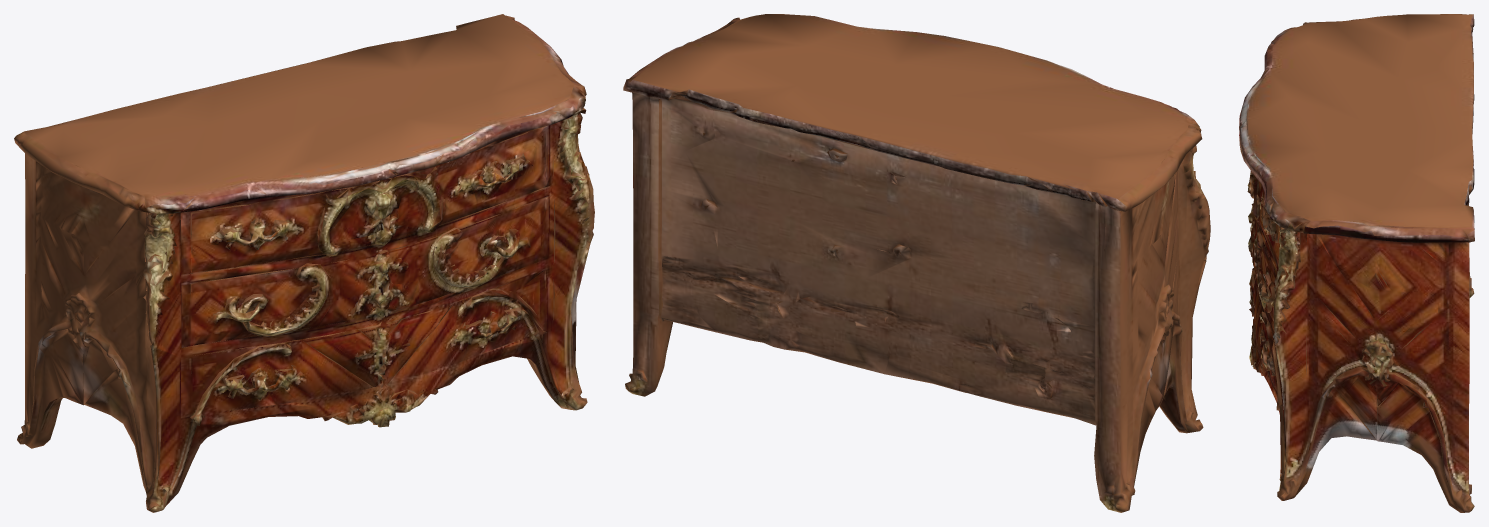
Rendered from commode-201746.glb.
3 renders of one model, left to right at view 1: azimuth 30°, elevation 25°; view 2: azimuth 150°, elevation 25°; view 3: azimuth 270°, elevation 25°, orthographic. The views are drawn at different scales.
Parts seen in each view (by area): view 1: Mesh; view 2: Mesh; view 3: Mesh.
Boxes of the visible parts, box(x1,y1,x2,y2) form: Mesh: box(14, 14, 594, 512); Mesh: box(623, 14, 1210, 512); Mesh: box(1239, 14, 1474, 512).
Bounding box in the file's own units: 1.45 × 0.8633 × 0.647.
1 material, 1 textured.
